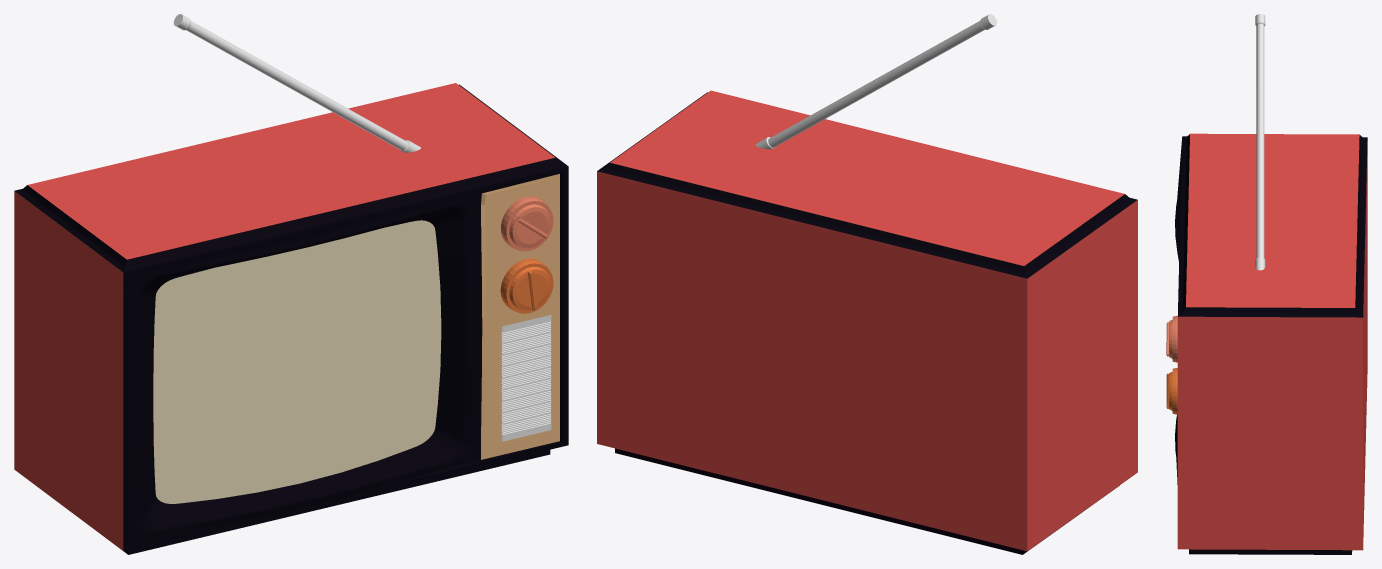
3 renders of one model, left to right at view 1: azimuth 30°, elevation 25°; view 2: azimuth 150°, elevation 25°; view 3: azimuth 270°, elevation 25°, orthographic. The views are drawn at different scales.
Visible parts, largest first — view 1: Plane, Plane.001, Plane.002, Grid, Cylinder.004, Cylinder.002, Cylinder.001; view 2: Plane, Cylinder.004; view 3: Plane, Cylinder.004, Cylinder.002, Cylinder.001.
Part boxes in pixels (x1,y1,x2,y2): Plane: (14,83,568,554); Plane.001: (153,220,441,503); Plane.002: (481,174,559,459); Grid: (501,315,551,441); Cylinder.004: (173,14,420,152); Cylinder.002: (500,258,553,313); Cylinder.001: (500,196,553,251); Plane: (597,90,1137,554); Cylinder.004: (755,14,996,149); Plane: (1175,133,1367,554); Cylinder.004: (1255,14,1265,270); Cylinder.002: (1166,368,1177,414); Cylinder.001: (1166,316,1177,362).
Bounding box in the file's own units: 61.3 × 65.29 × 28.78.
